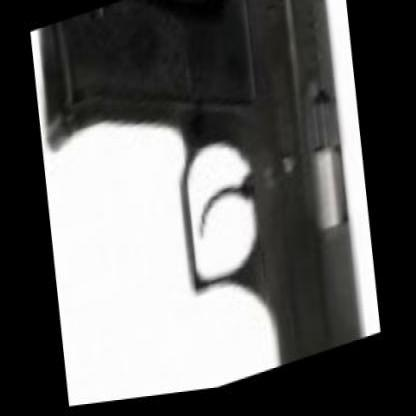pistol: (37, 0, 382, 411)
